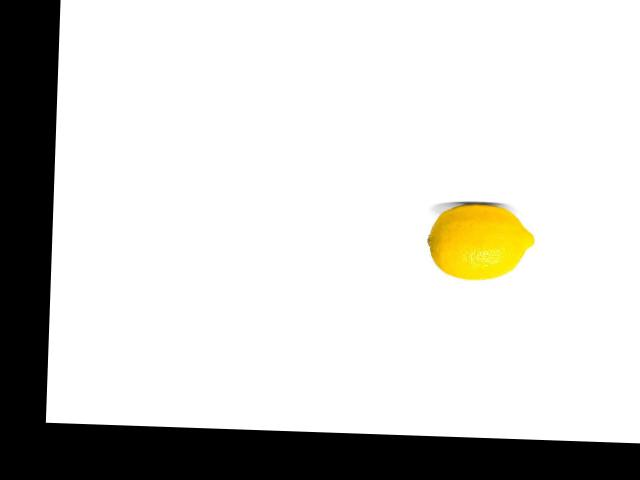lemon: (421, 202, 539, 280)
